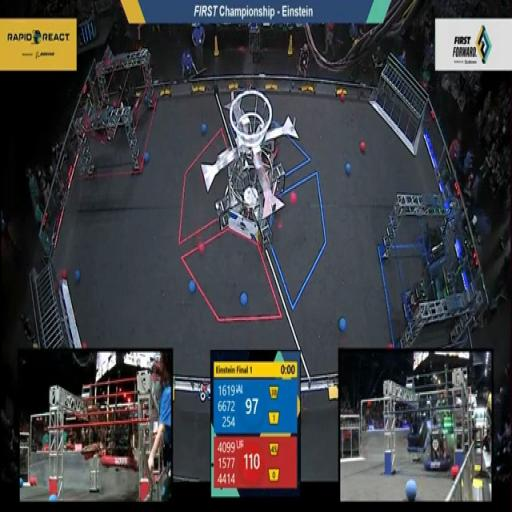robot: (426, 258, 474, 332), (417, 208, 455, 272), (399, 272, 434, 334), (88, 92, 119, 151), (111, 72, 143, 126), (255, 118, 280, 169)
